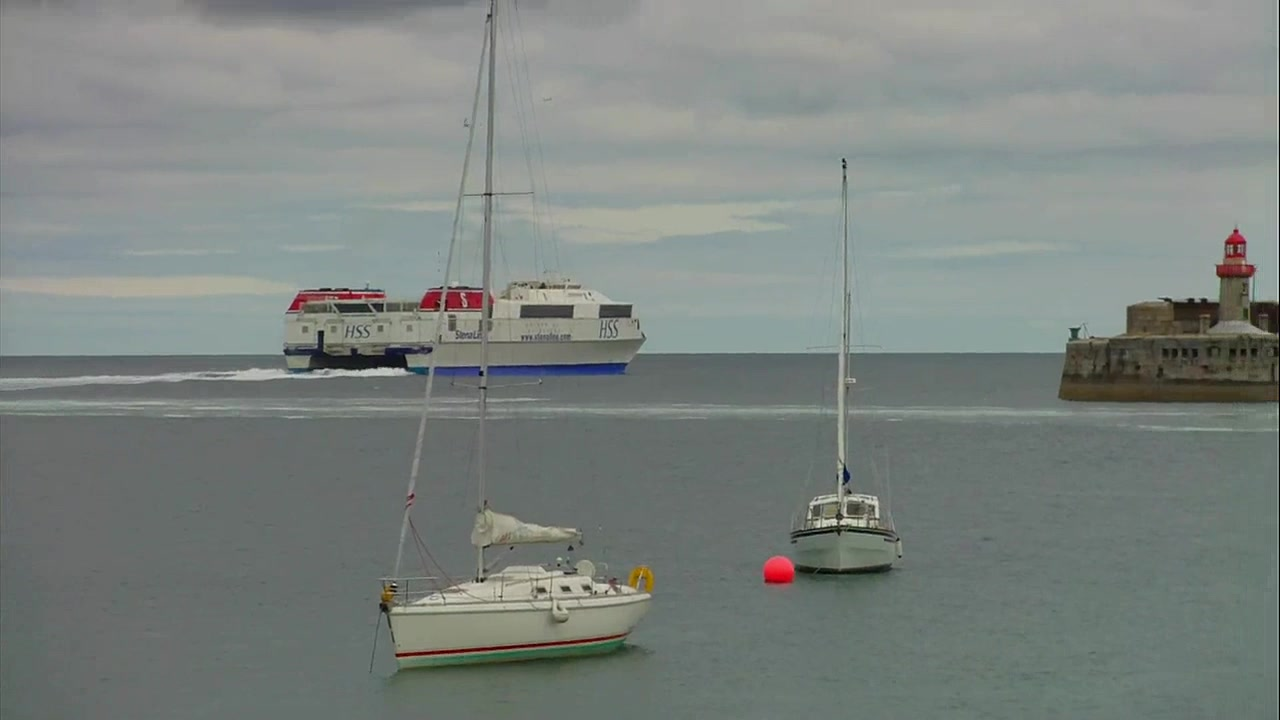boat: (373, 4, 656, 674)
